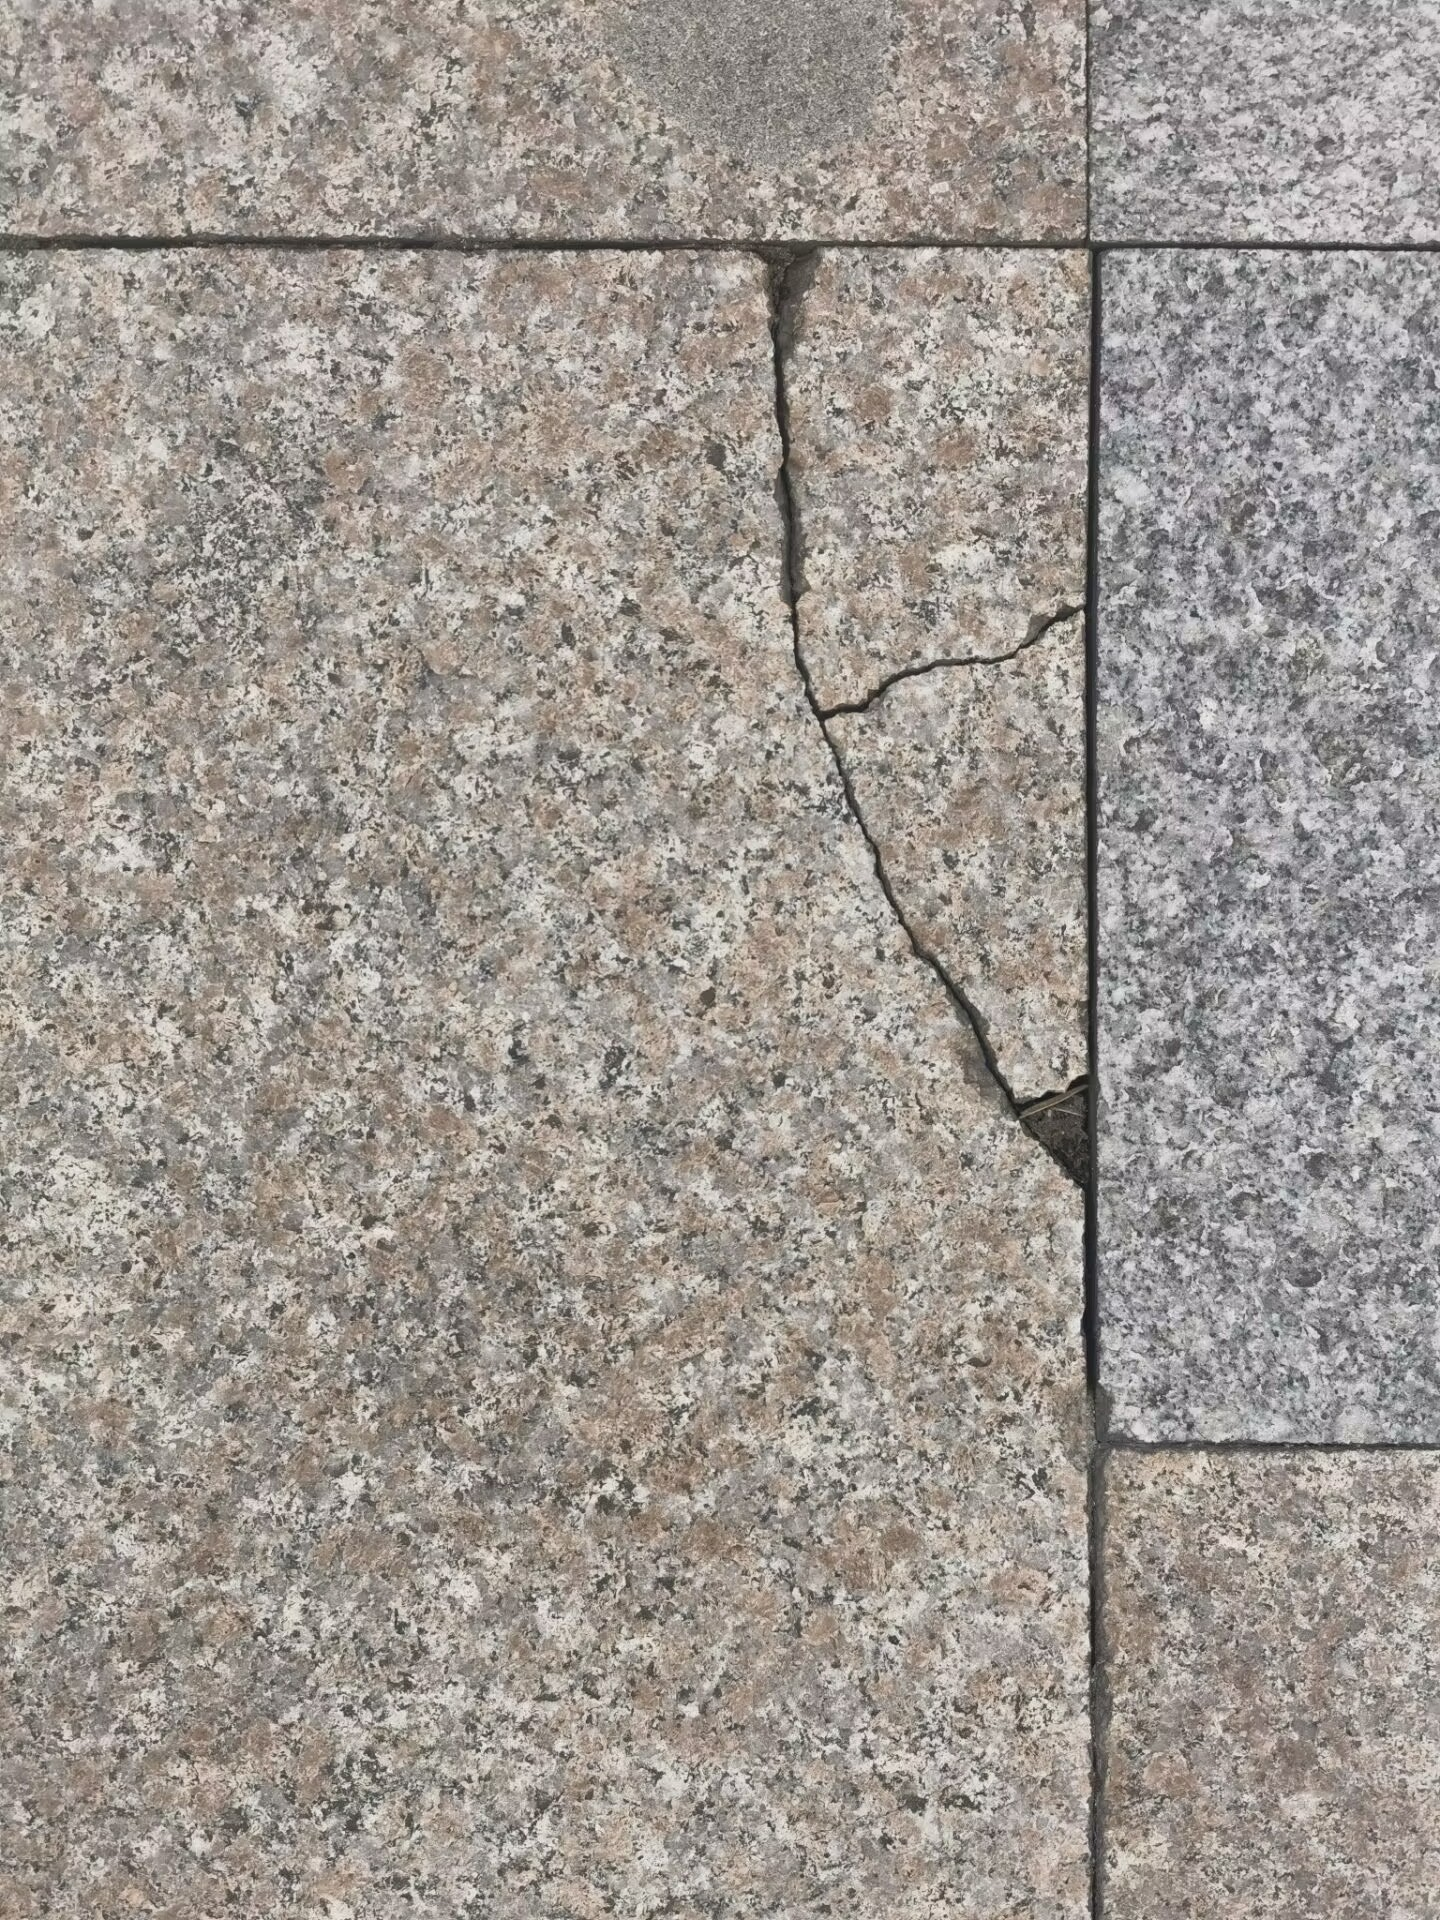TILE: (720, 248, 1097, 1229)
